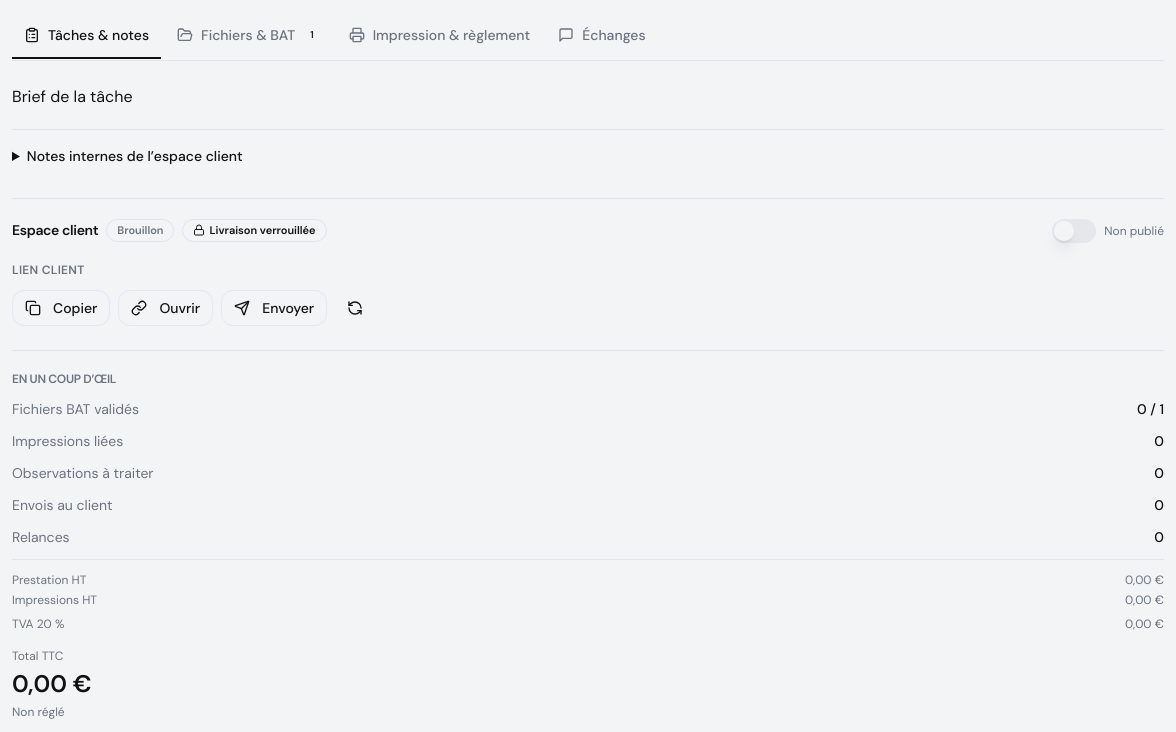
Task portal workspace › keeps the four sections and preserves an unsent reply across tabs
The image size is (1176, 732).
Later steps or results of the test are not shown.
Expected: the tab "Tâches & notes" is shown, 12,13 -> 161,59
Expected: the text "Brief de la tâche" is shown, 12,86 -> 132,107
Press the mouse on the tab "Échanges" at (602, 36), box 546,13 -> 658,59
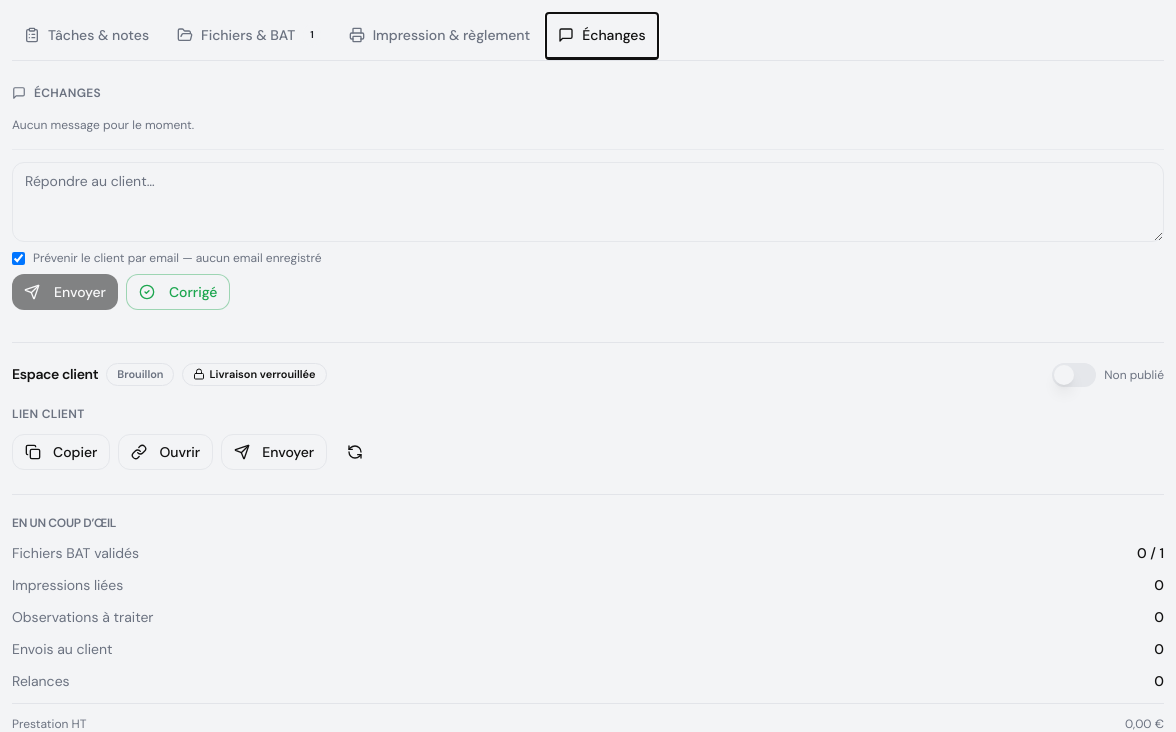
Expected: the text box with placeholder "Répondre au client…" is shown, 12,162 -> 1164,242
